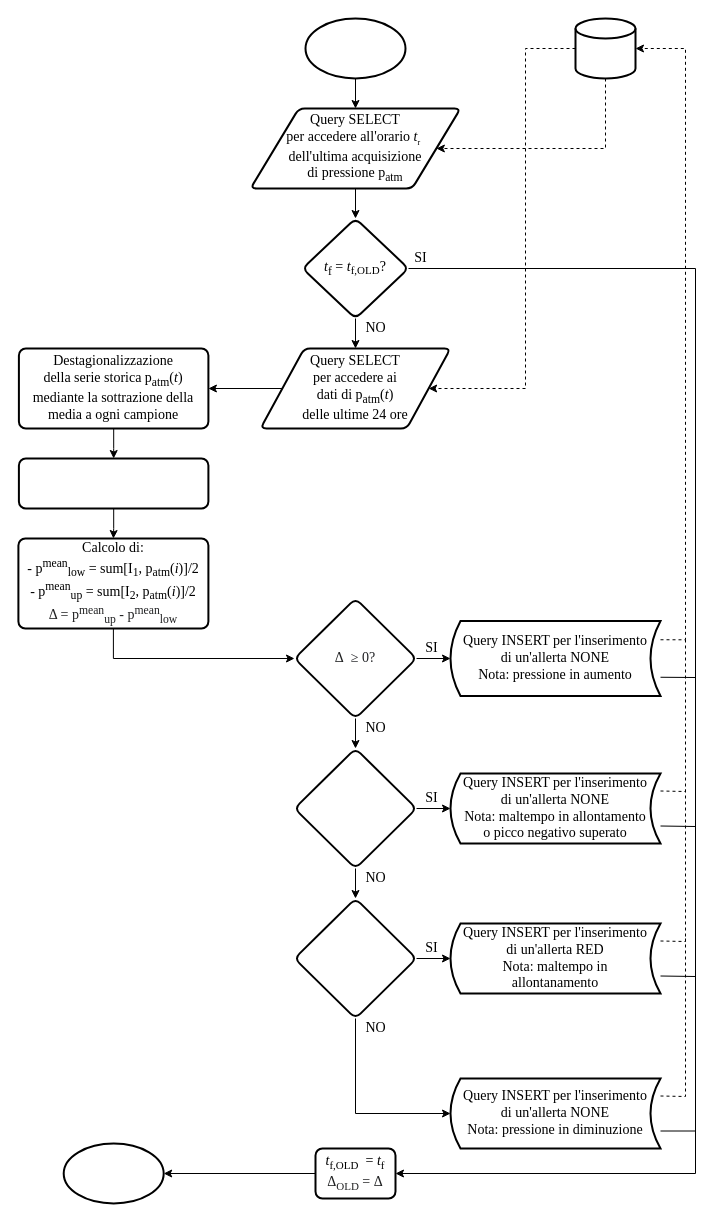
Some shapes in this 721 by 1221 pixel diagram are drawn without their labels. The shapes that lost their labels are listed below. From the top down, each one's box as (x1, y1, x2, y2) in pixels, then its label:
(304, 17, 406, 79): INIZIO
(574, 17, 636, 79): DB
(17, 457, 209, 509): Definizione degli intervalli temporali I 1 e I 2
(293, 747, 417, 869): Δ > Δ OLD ?
(293, 897, 417, 1019): Δ ≤ -5 hPa?
(62, 1142, 164, 1204): FINE
